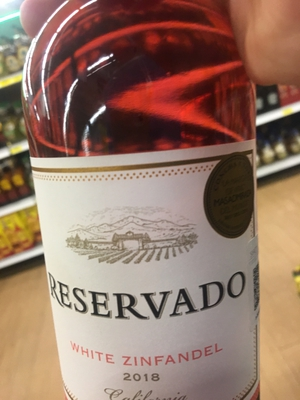reservado white zinfandel: (34, 23, 264, 397)
